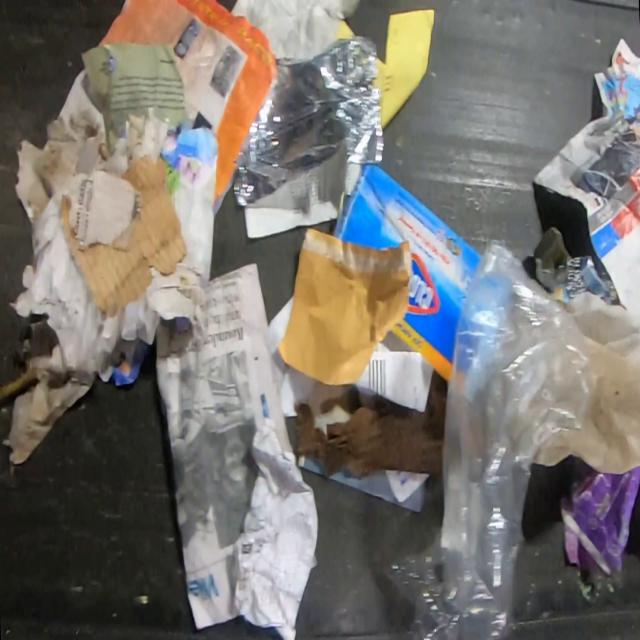cardboard: (62, 155, 188, 318)
soft_plastic: (384, 236, 591, 638), (232, 39, 385, 206), (532, 290, 640, 478)
